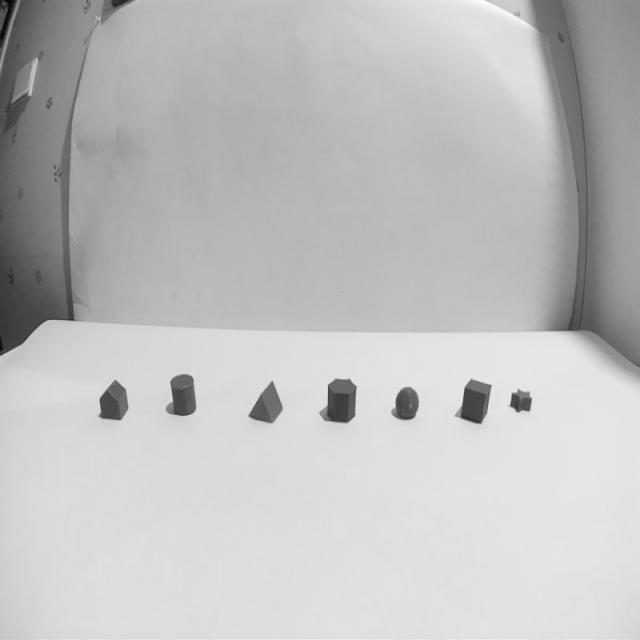ball: (395, 387, 419, 419)
cube: (460, 380, 492, 424)
cylinder: (170, 375, 196, 415)
hexagon: (327, 379, 357, 423)
home: (99, 380, 129, 421)
star: (511, 389, 531, 412)
triangle: (248, 380, 284, 424)
